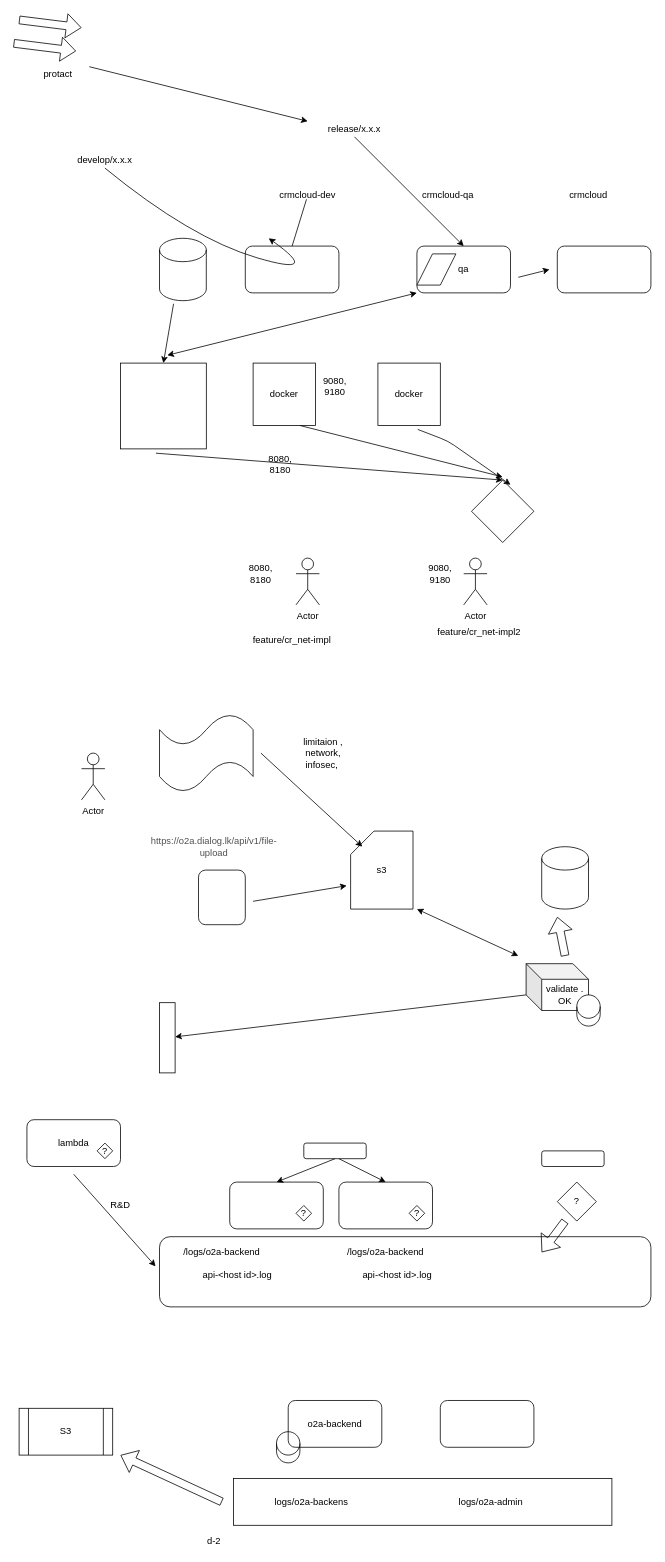
Image size: 665x1562. Some labels were removed from this diagram. Each missing label, with the centre of its shape:
"dev" goes at point (292, 269).
"docker clone--> docker up -> dev docker up -. qa" goes at point (163, 405).
"jump" goes at point (502, 510).
"lambda go, nodjs, python," goes at point (221, 897).
"mife" goes at point (167, 1037).
"o2a-admin" goes at point (487, 1423).
"prod" goes at point (604, 269).
"pvc" goes at point (588, 1010).
